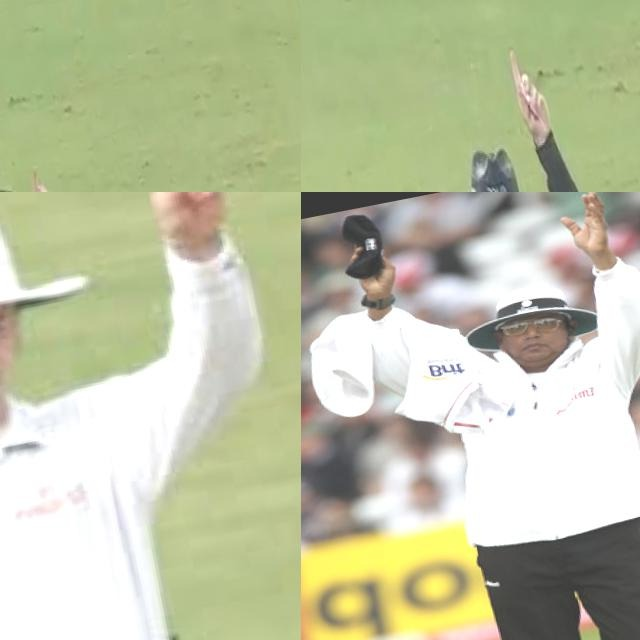Out: (0, 192, 301, 640), (374, 29, 638, 192)
Six: (301, 192, 640, 640)
